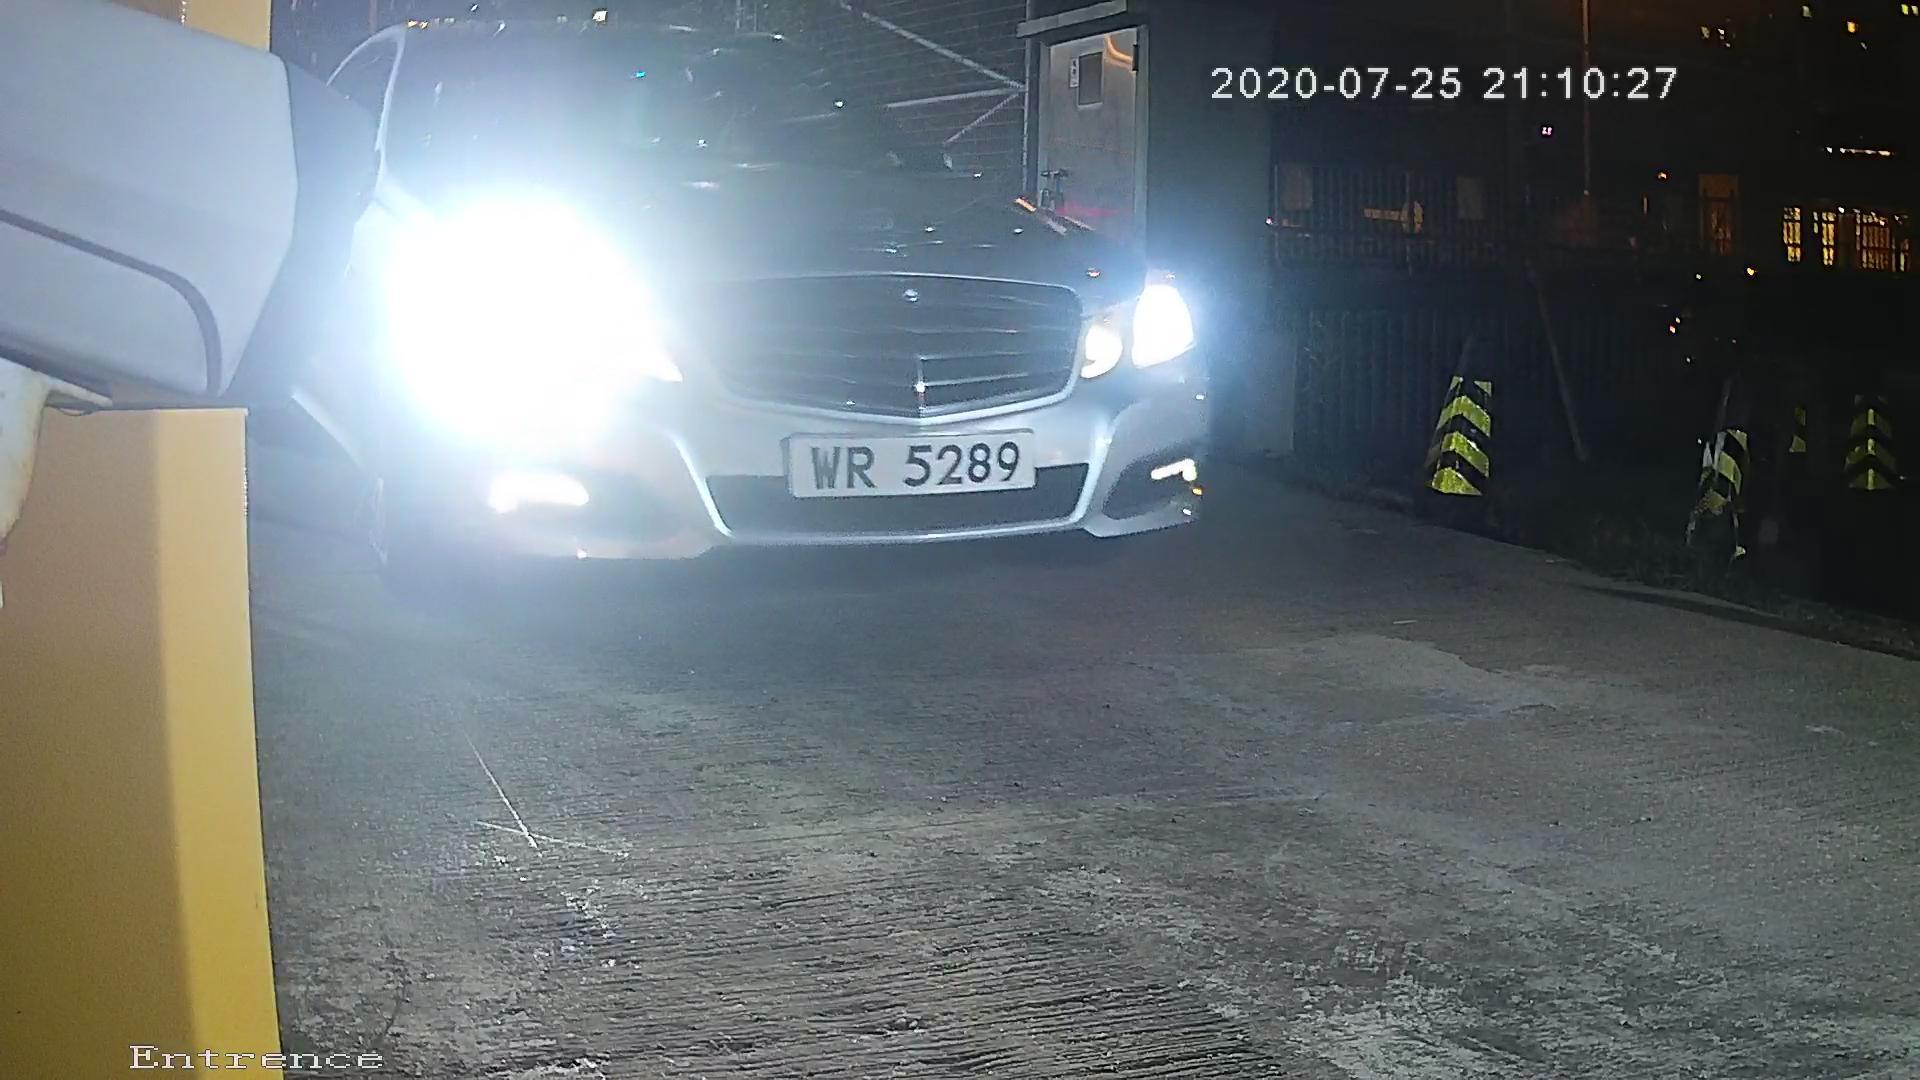privatecar: (247, 1, 1242, 584)
